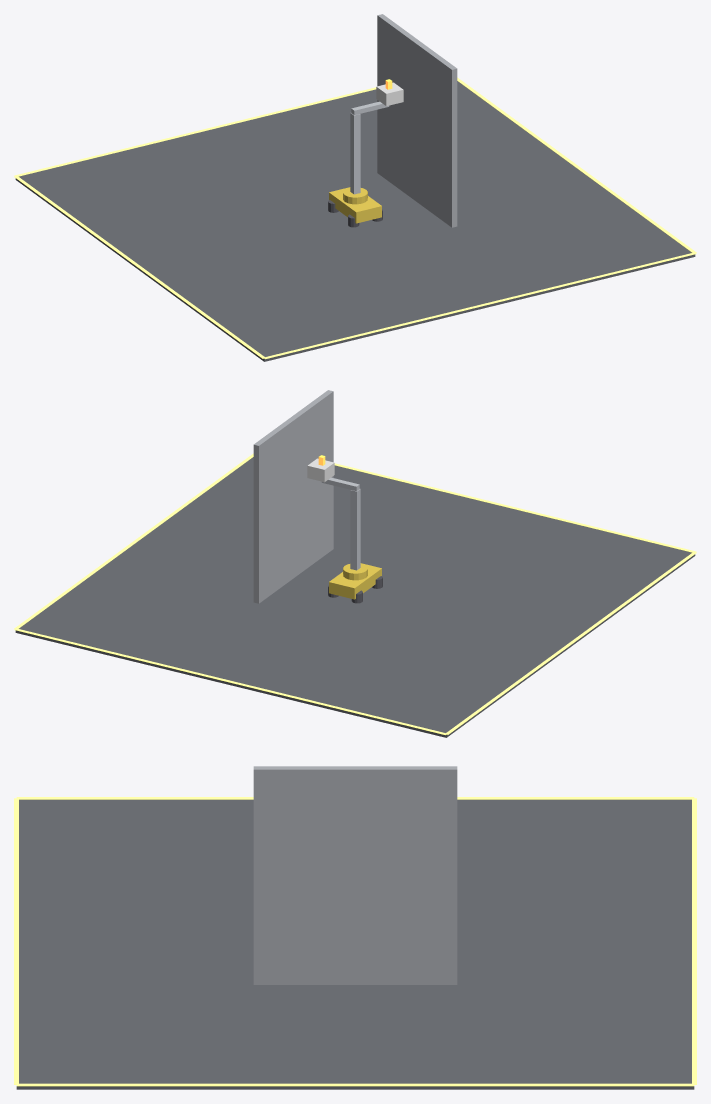
Rendered from sim-boom-lift.glb.
3 renders of one model, top to bottom at view 1: azimuth 30°, elevation 25°; view 2: azimuth 150°, elevation 25°; view 3: azimuth 270°, elevation 25°, orthographic. The views are drawn at different scales.
Visible parts, largest first — view 1: Boom Lift Basket Work; view 2: Boom Lift Basket Work; view 3: Boom Lift Basket Work.
Boxes of the visible parts, <box> form: Boom Lift Basket Work: <box>14,14,696,361</box>; Boom Lift Basket Work: <box>14,390,696,737</box>; Boom Lift Basket Work: <box>14,766,696,1089</box>.
Size of the model in its own units: 40.3 by 14.3 by 40.3.
